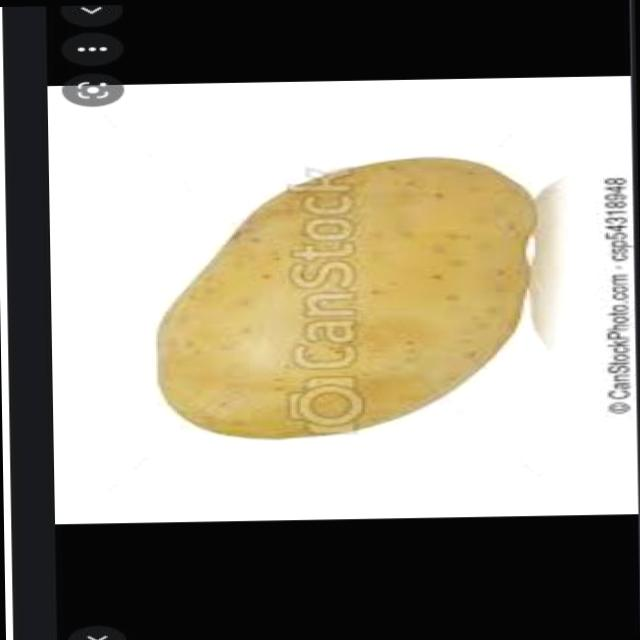potato: (154, 155, 542, 440)
